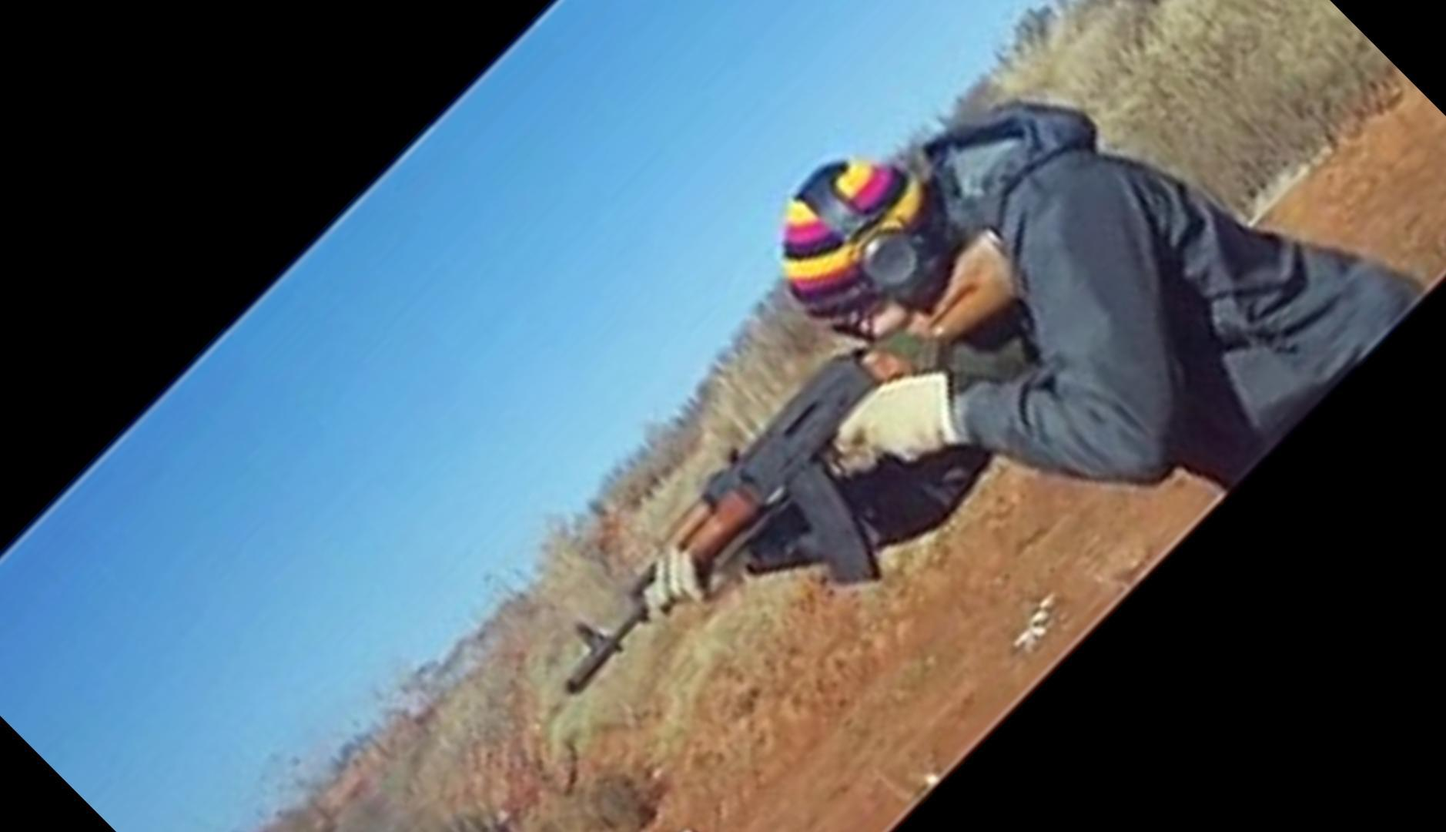larga: (563, 227, 1031, 694)
